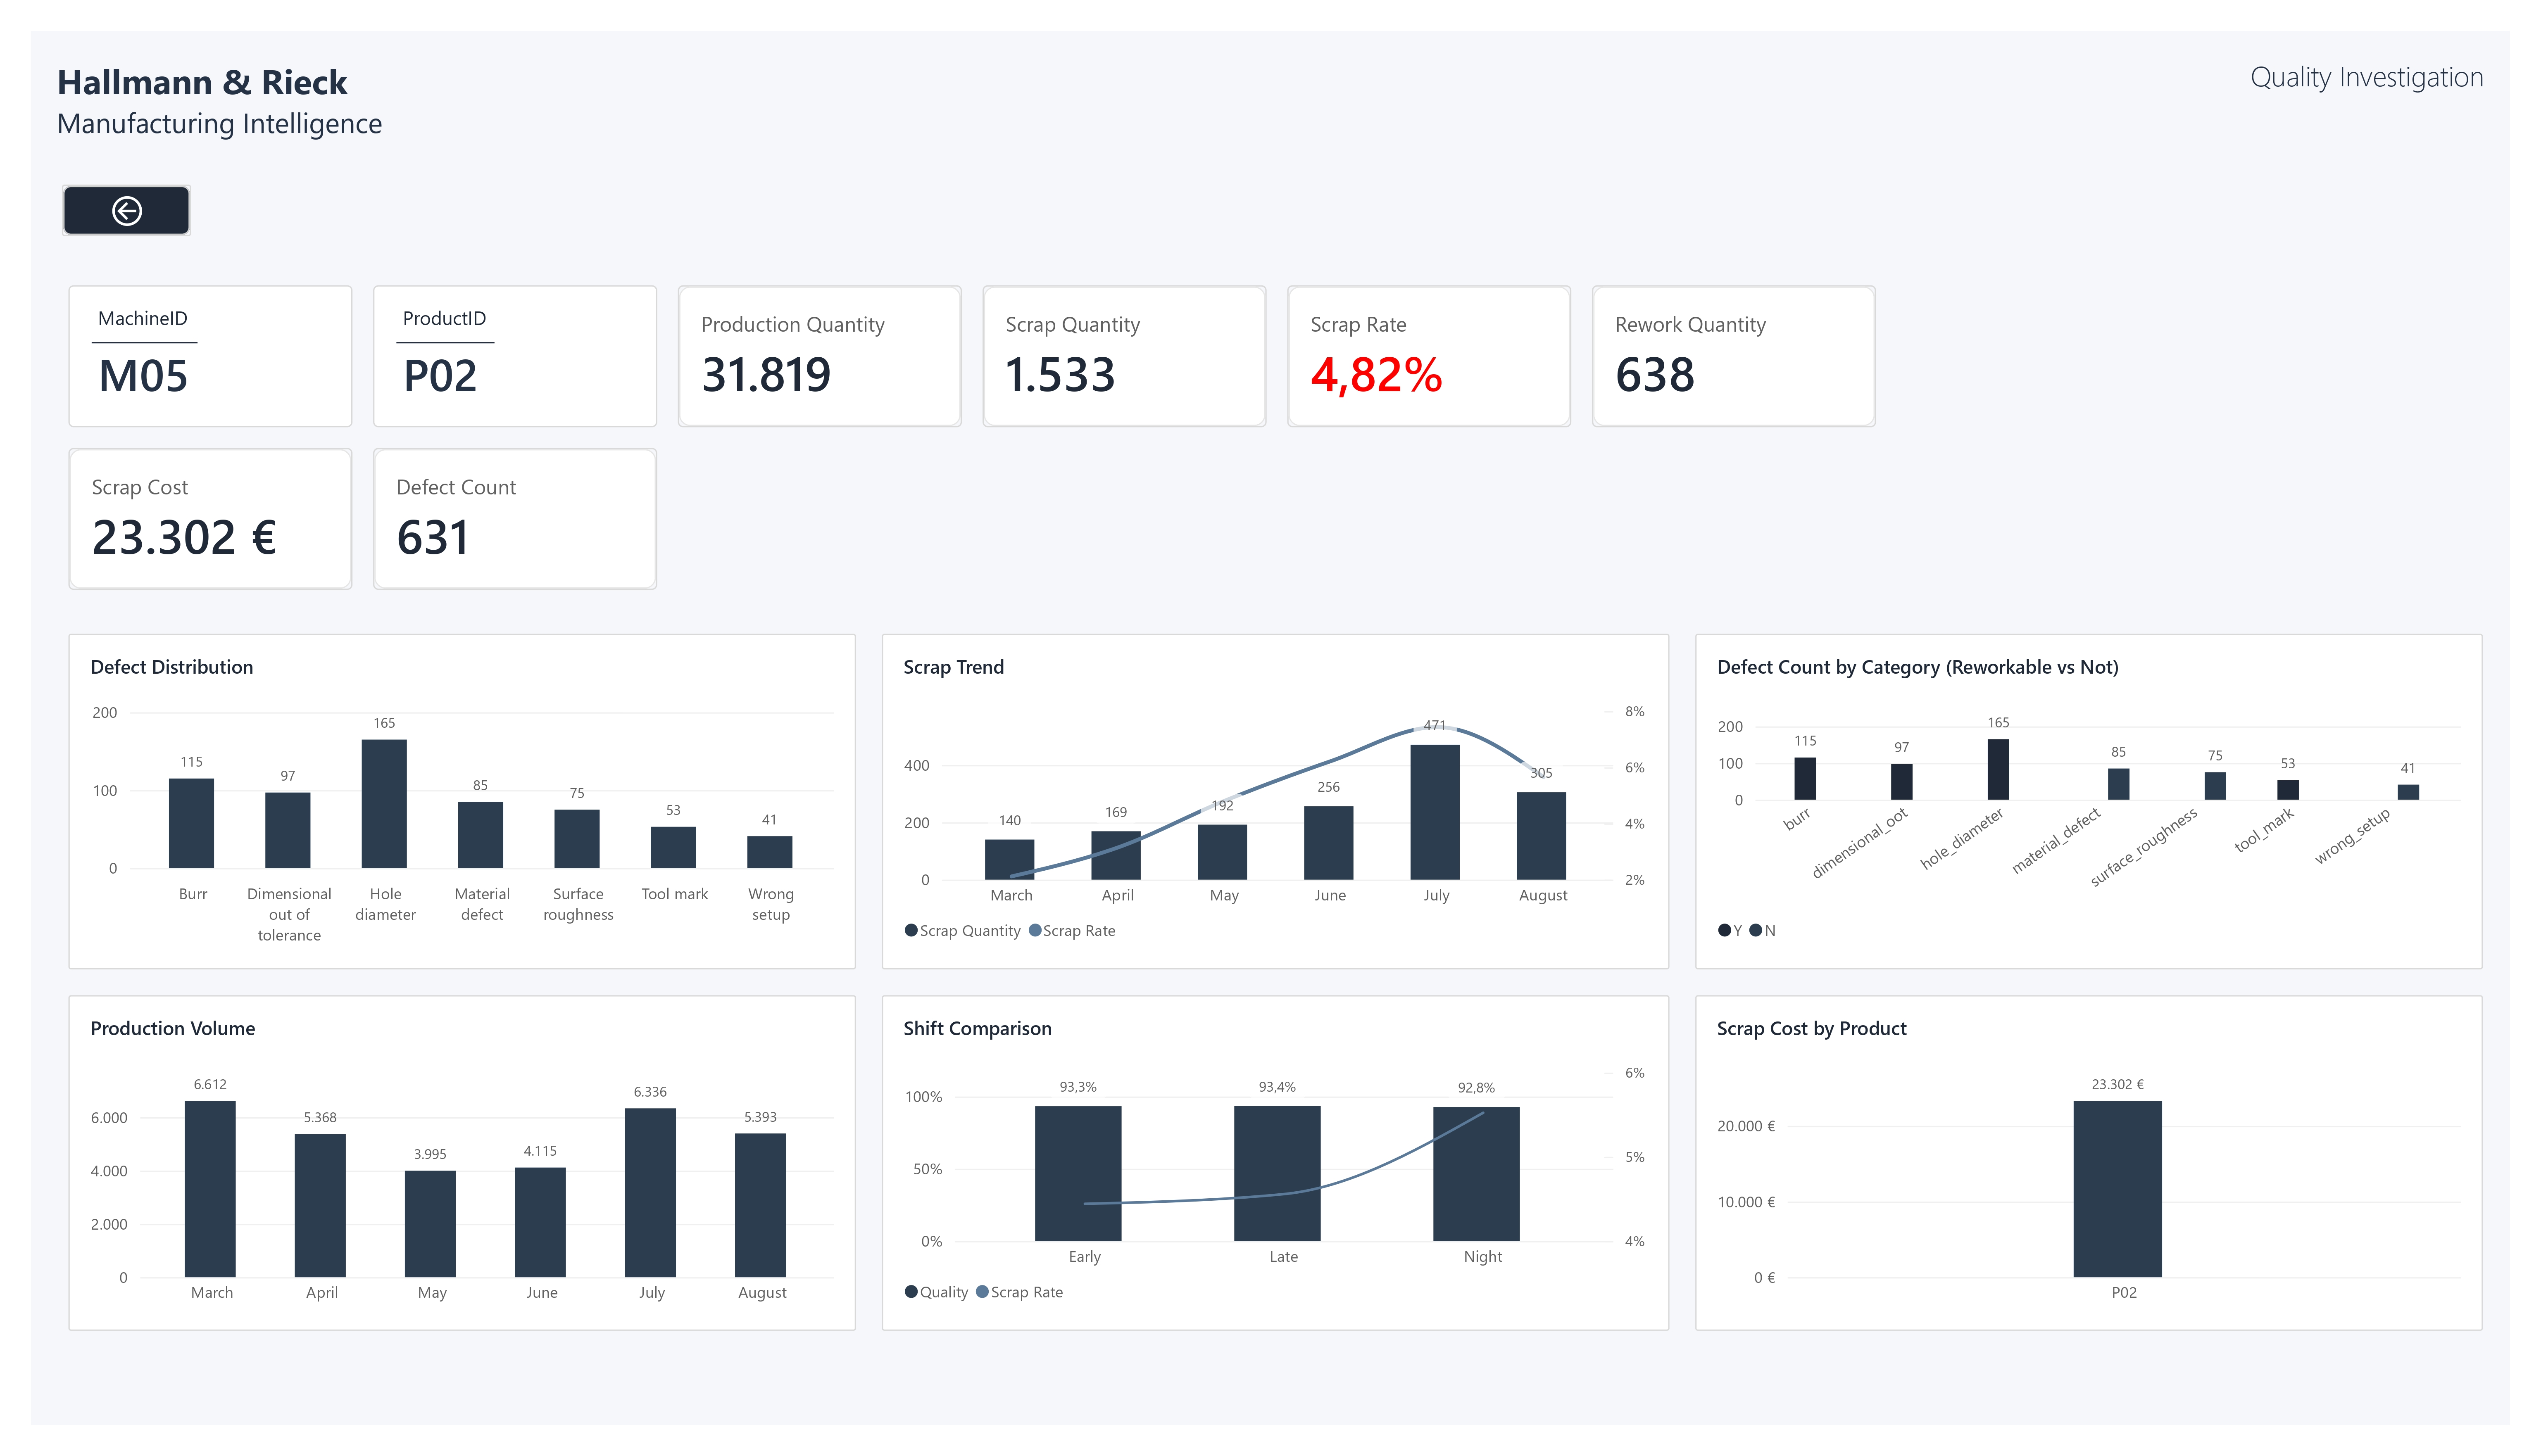

Layout of this report page (visuals, bound fields, positions):
{"tool":"powerbi","page":{"name":"07 Quality Investigation","canvas":[1920,1080],"ordinal":6},"visuals":[{"type":"textbox","title":"Company Text","box":[20,20,362.5,80],"z":0,"group":"g1"},{"type":"tableEx","fields":{"Values":["Dim_Machine.MachineID"]},"box":[29.4,197.1,220,110],"z":0},{"type":"textbox","title":"Page Text","box":[1644.9,20,255.1,80.5],"z":1000,"group":"g1"},{"type":"cardVisual","fields":{"Data":["_Measures.Scrap Cost"],"Values":["_Measures.Scrap Cost"]},"box":[29.4,323.1,220,110],"z":1000},{"type":"lineClusteredColumnComboChart","title":"Shift Comparison","fields":{"Category":["Dim_Shift.ShiftName"],"Y":["_Measures.Quality"],"Y2":["_Measures.Scrap Rate"]},"box":[659.4,747.1,610,260],"z":2000},{"type":"lineClusteredColumnComboChart","title":"Scrap Trend","fields":{"Category":["Dim_Date.MonthName"],"Y":["_Measures.Scrap Quantity"],"Y2":["_Measures.Scrap Rate"]},"box":[659.4,467.1,610,260],"z":3000},{"type":"cardVisual","fields":{"Data":["_Measures.Defect Count"],"Values":["_Measures.Defect Count"]},"box":[265.4,323.1,220,110],"z":4000},{"type":"cardVisual","fields":{"Data":["_Measures.Scrap Rate"],"Values":["_Measures.Scrap Rate"]},"box":[973.4,197.1,220,110],"z":5000},{"type":"clusteredColumnChart","title":"Defect Count by Category (Reworkable vs Not)","fields":{"Category":["Dim_Defect.DefectCategory"],"Series":["Dim_Defect.ReworkableFlag"],"Y":["_Measures.Defect Count"]},"box":[1289.4,467.1,610,260],"z":6000},{"type":"clusteredColumnChart","title":"Production Volume","fields":{"Category":["Dim_Date.MonthName"],"Y":["_Measures.Actual Quantity"]},"box":[29.4,747.1,610,260],"z":7000},{"type":"tableEx","fields":{"Values":["Dim_Product.ProductID"]},"box":[265.4,197.1,220,110],"z":8000},{"type":"cardVisual","fields":{"Data":["_Measures.Scrap Quantity"],"Values":["_Measures.Scrap Quantity"]},"box":[737.4,197.1,220,110],"z":9000},{"type":"cardVisual","fields":{"Data":["_Measures.Rework Quantity"],"Values":["_Measures.Rework Quantity"]},"box":[1209.4,197.1,220,110],"z":10000},{"type":"clusteredColumnChart","title":"Defect Distribution","fields":{"Category":["Dim_Defect.DefectDescription"],"Y":["_Measures.Defect Count"]},"box":[29.4,467.1,610,260],"z":11000},{"type":"cardVisual","fields":{"Data":["_Measures.Actual Quantity"],"Values":["_Measures.Actual Quantity"]},"box":[501.4,197.1,220,110],"z":12000},{"type":"clusteredColumnChart","title":"Scrap Cost by Product","fields":{"Category":["Dim_Product.ProductID"],"Y":["_Measures.Scrap Cost"]},"box":[1289.4,747.1,610,260],"z":13000},{"type":"actionButton","box":[24,119.2,100,40],"z":15000},{"type":"group","id":"g1","title":"Header","box":[20,20,1880,80.5],"z":15001}]}

Visuals, with their boxes on the page's 1920x1080 design canvas (x1, y1, x2, y2). These are canvas units, not pixel positions in the 2541x1456 screenshot, which may show the page scaled, cropped or inside an application window:
"Company Text" textbox: x1=20 y1=20 x2=382 y2=100
tableEx - Dim_Machine.MachineID: x1=29 y1=197 x2=249 y2=307
"Page Text" textbox: x1=1645 y1=20 x2=1900 y2=100
cardVisual - _Measures.Scrap Cost x _Measures.Scrap Cost: x1=29 y1=323 x2=249 y2=433
"Shift Comparison" lineClusteredColumnComboChart: x1=659 y1=747 x2=1269 y2=1007
"Scrap Trend" lineClusteredColumnComboChart: x1=659 y1=467 x2=1269 y2=727
cardVisual - _Measures.Defect Count x _Measures.Defect Count: x1=265 y1=323 x2=485 y2=433
cardVisual - _Measures.Scrap Rate x _Measures.Scrap Rate: x1=973 y1=197 x2=1193 y2=307
"Defect Count by Category (Reworkable vs Not)" clusteredColumnChart: x1=1289 y1=467 x2=1899 y2=727
"Production Volume" clusteredColumnChart: x1=29 y1=747 x2=639 y2=1007
tableEx - Dim_Product.ProductID: x1=265 y1=197 x2=485 y2=307
cardVisual - _Measures.Scrap Quantity x _Measures.Scrap Quantity: x1=737 y1=197 x2=957 y2=307
cardVisual - _Measures.Rework Quantity x _Measures.Rework Quantity: x1=1209 y1=197 x2=1429 y2=307
"Defect Distribution" clusteredColumnChart: x1=29 y1=467 x2=639 y2=727
cardVisual - _Measures.Actual Quantity x _Measures.Actual Quantity: x1=501 y1=197 x2=721 y2=307
"Scrap Cost by Product" clusteredColumnChart: x1=1289 y1=747 x2=1899 y2=1007
actionButton: x1=24 y1=119 x2=124 y2=159
"Header" group: x1=20 y1=20 x2=1900 y2=100
